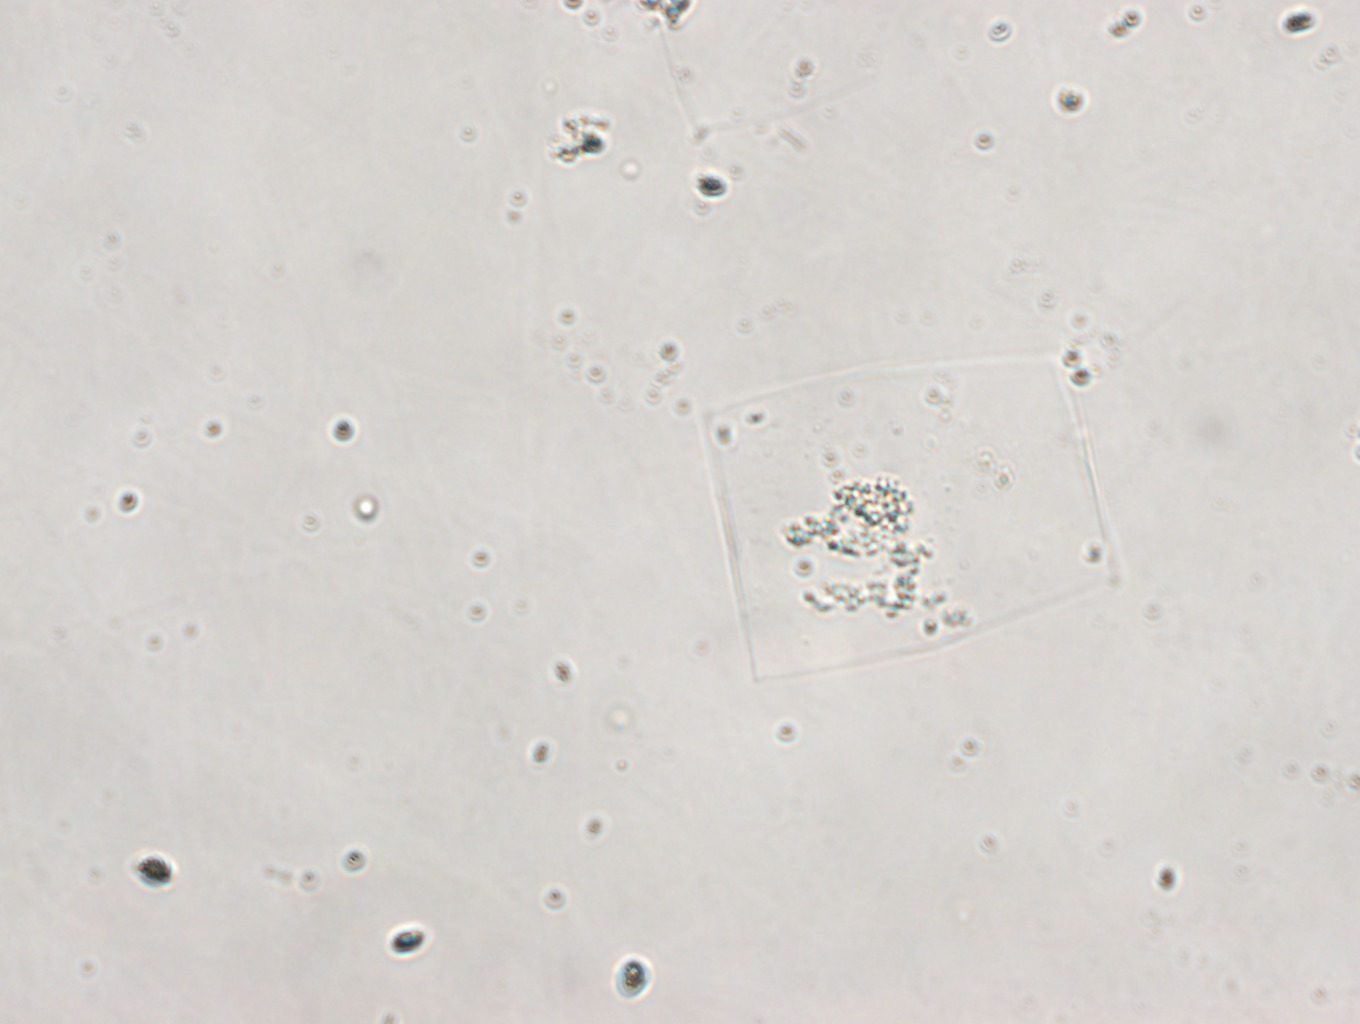helicotheca: (695, 353, 1126, 689)
